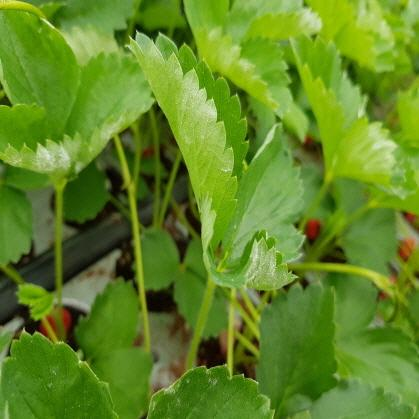Powdery Mildew Leaf: (123, 28, 249, 265), (197, 193, 301, 291), (0, 101, 115, 180), (64, 48, 155, 142), (329, 114, 418, 200), (145, 364, 275, 418)
